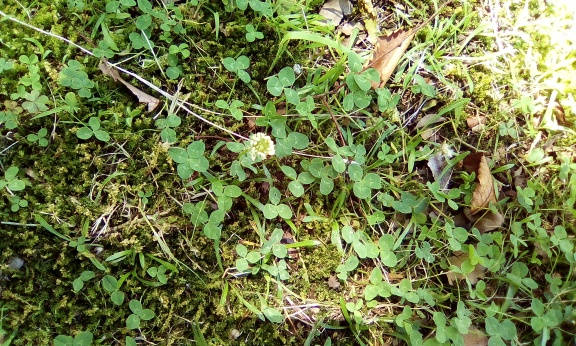4leaf: (168, 141, 209, 179)
